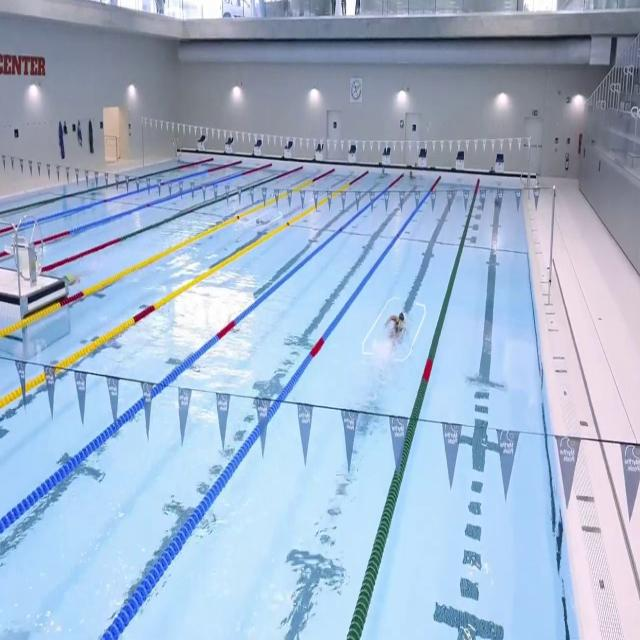Swimming: (384, 312, 408, 349), (248, 214, 273, 234)
